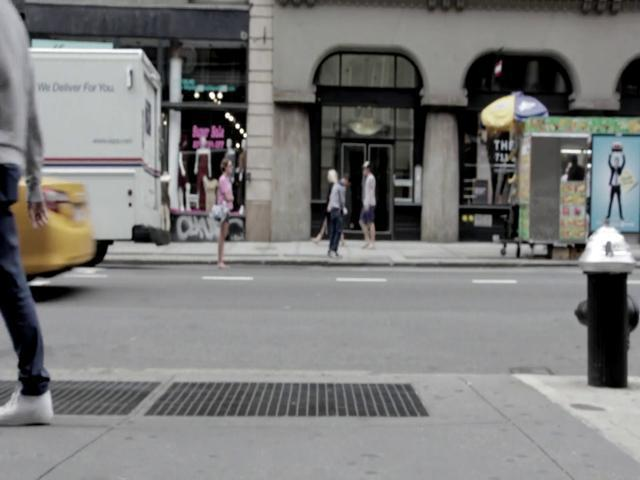shoe: (1, 391, 54, 425)
